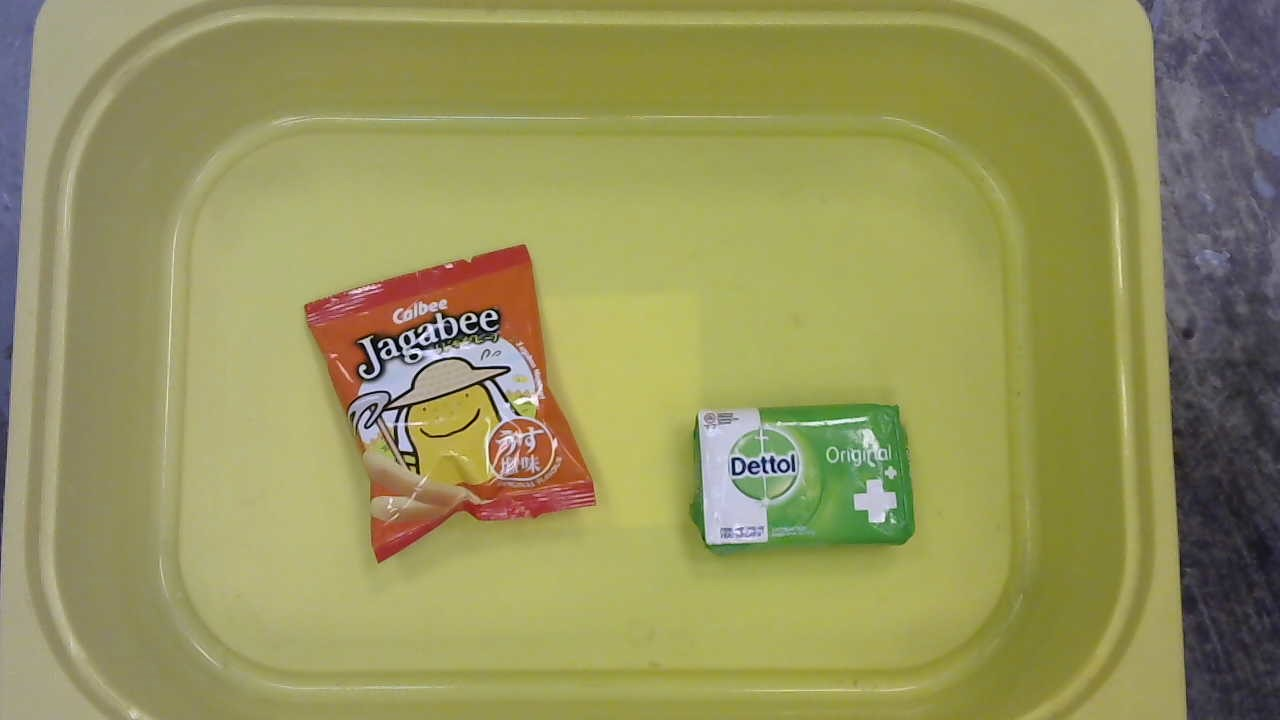Dettol: (686, 401, 921, 556)
JagabeeFarmer: (297, 241, 602, 566)
